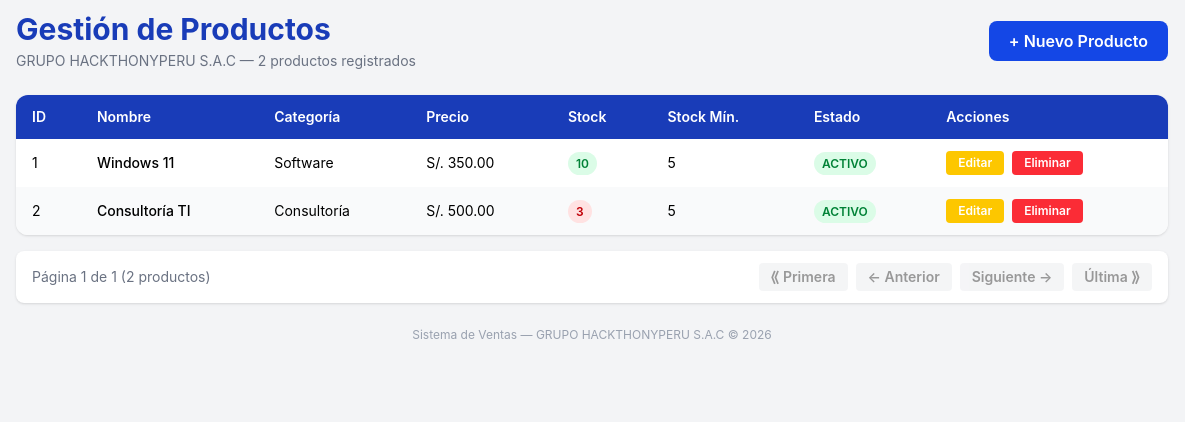
Test case: Componente Productos - Pruebas Unitarias › Debe permitir eliminar un producto tras confirmar
Expected: the text "Windows 11" is shown, [81, 139, 258, 187]
Click the button "Eliminar" in the row of "Windows 11".
click(1047, 163)  # box [1012, 151, 1083, 175]
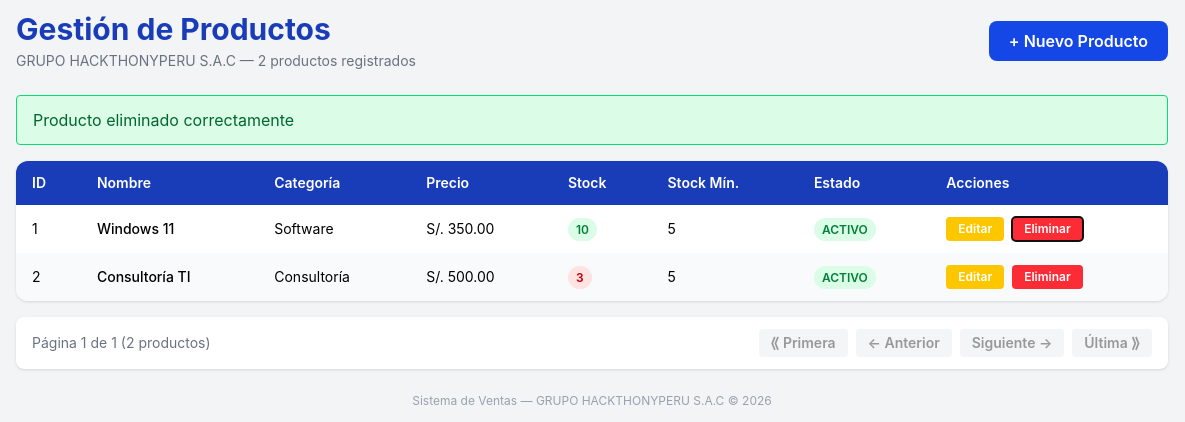
Result: the text "Producto eliminado correctamente" is shown at [16, 95, 1168, 145]
